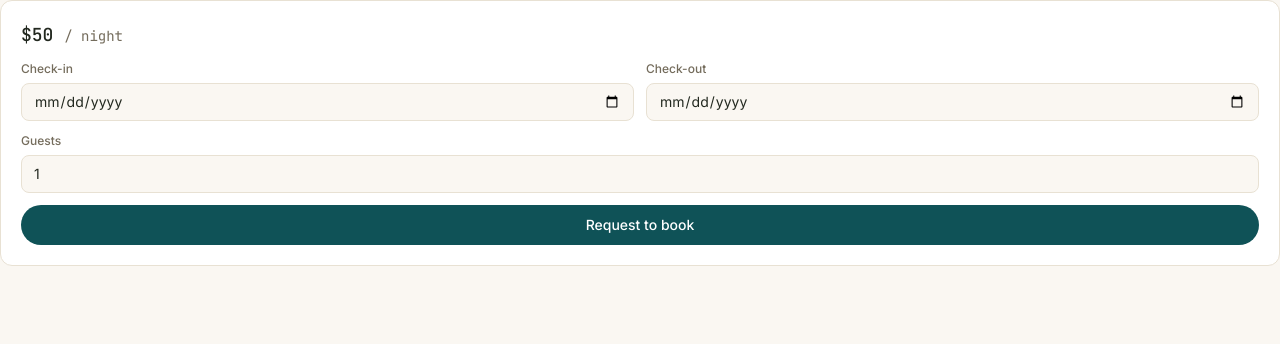
it: BookingForm › shows a validation error when guests exceed the listing's max
In the date field labelled "Check-in": x=328, y=102 [21,83,634,121], type "2030-06-10"
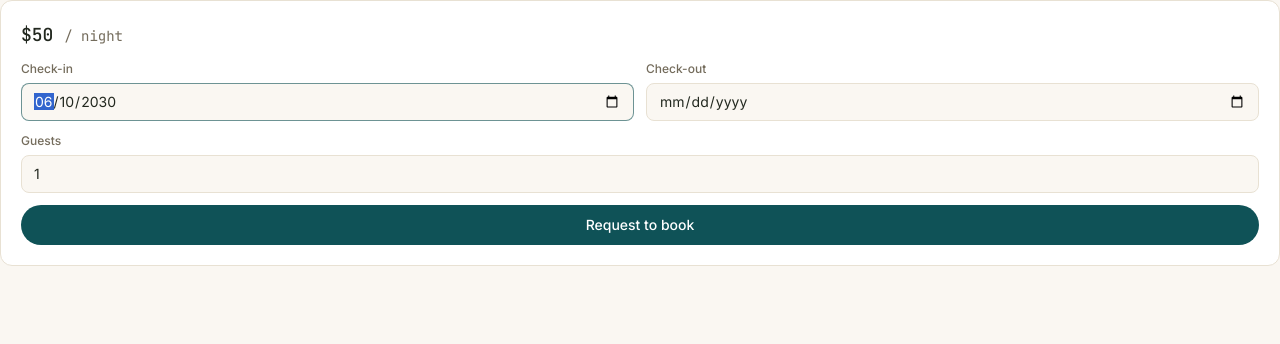
In the date field labelled "Check-out": x=952, y=102 [646,83,1259,121], type "2030-06-12"
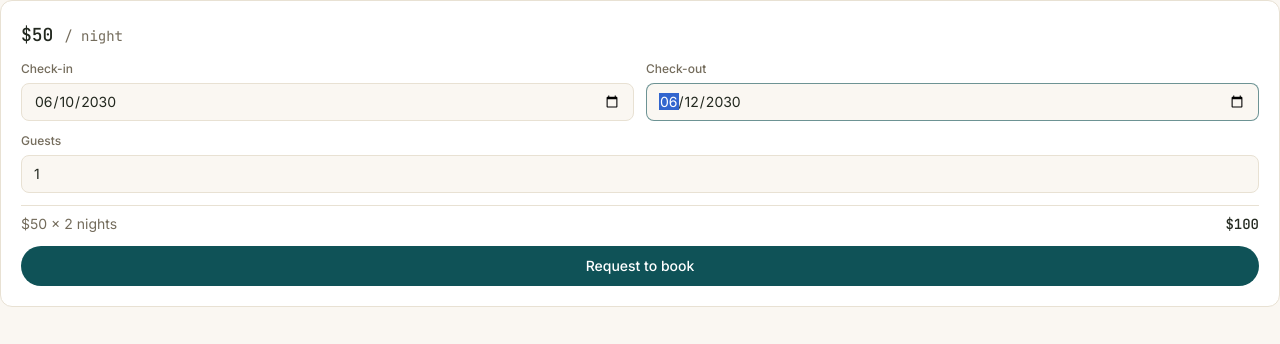
Replace the text in the number field labelled "Guests" with "10": x=640, y=174 [21,155,1259,193]
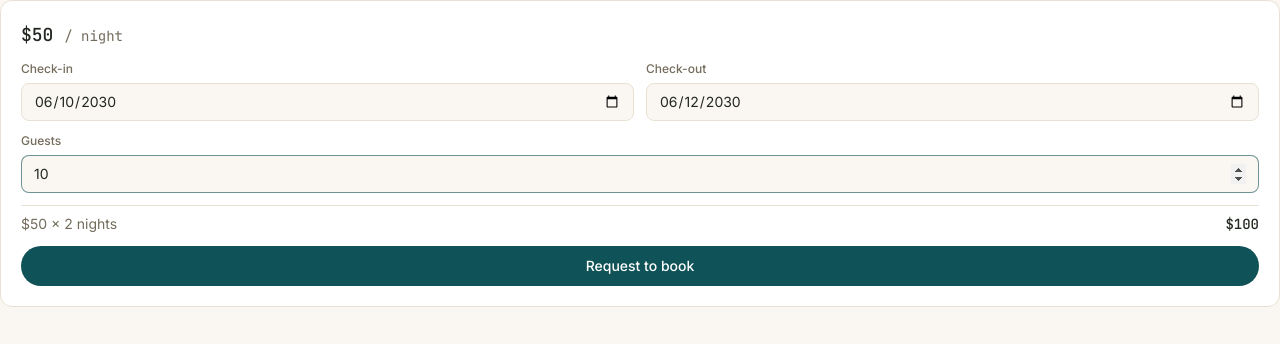
Click the button "Request to book": x=640, y=266 [21,246,1259,286]
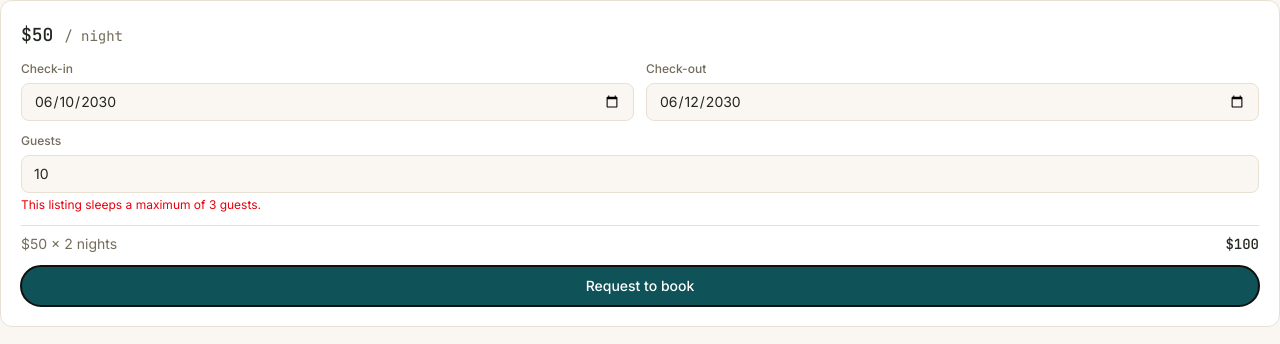
Result: the text "This listing sleeps a maximum of 3 guests." is shown at [21,197,261,212]
